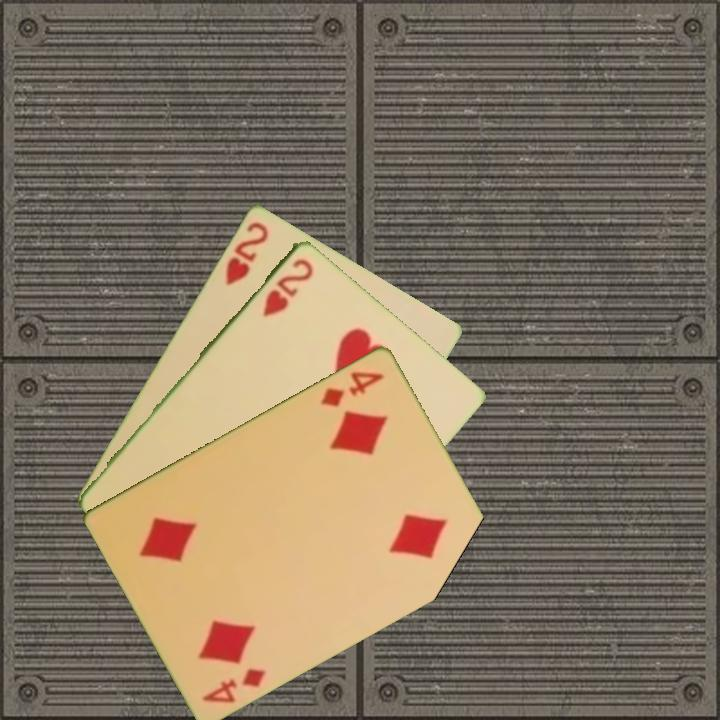2h: (259, 254, 316, 320), (221, 217, 271, 288)
4d: (317, 367, 388, 410), (198, 664, 269, 706)
